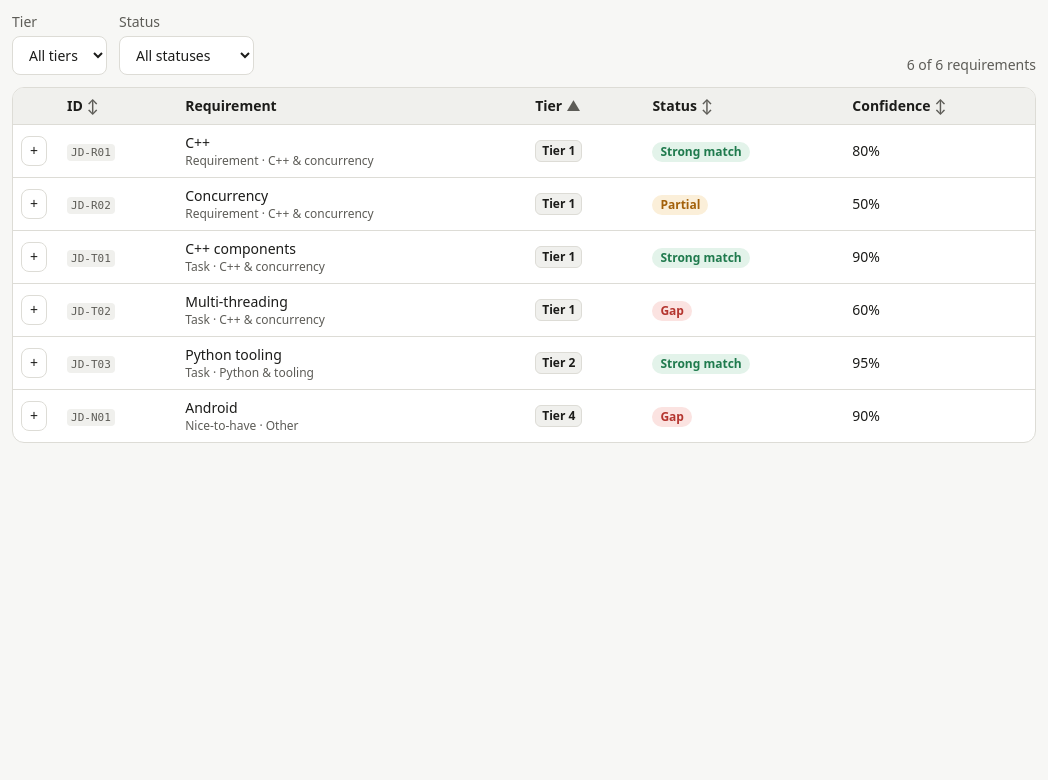
Scenario: MatrixTable › expands a row to show the JD quote and resume evidence
This screenshot has width=1048, height=780.
Click the button "+" next to "JD-T01": (34, 257) [21,242,47,272]
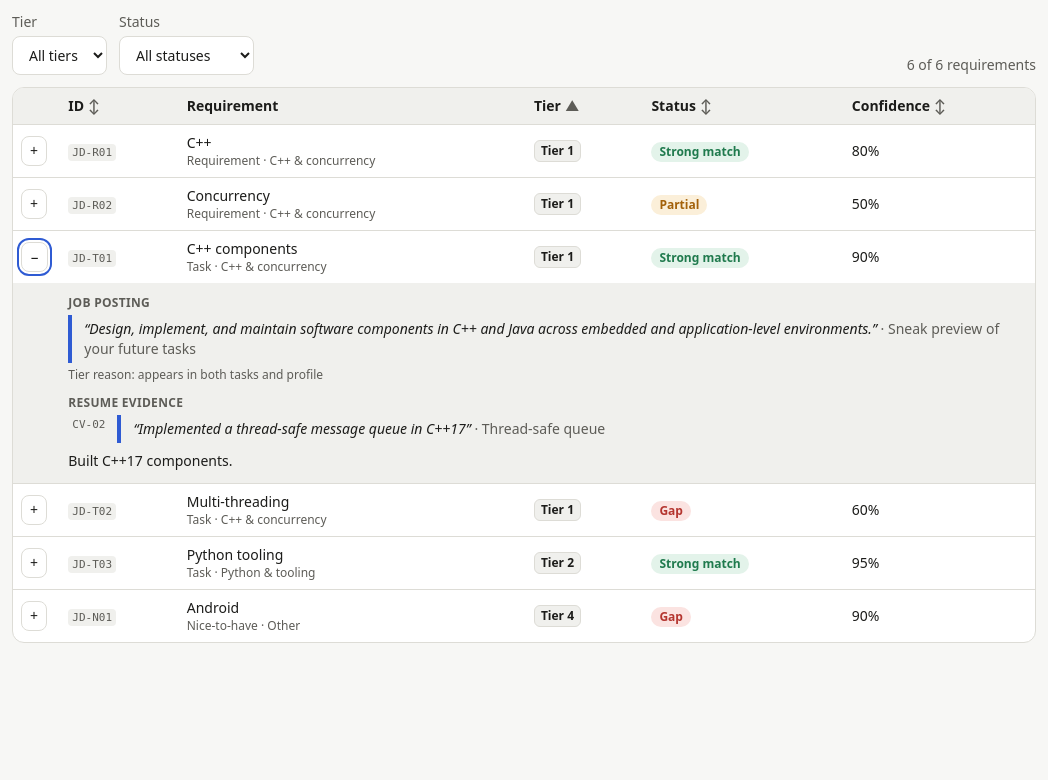
expect the text "Design, implement, and maintai" is shown: met, box [89,319,872,338]
expect the text "Resume evidence" is shown: met, box [68,394,183,411]
